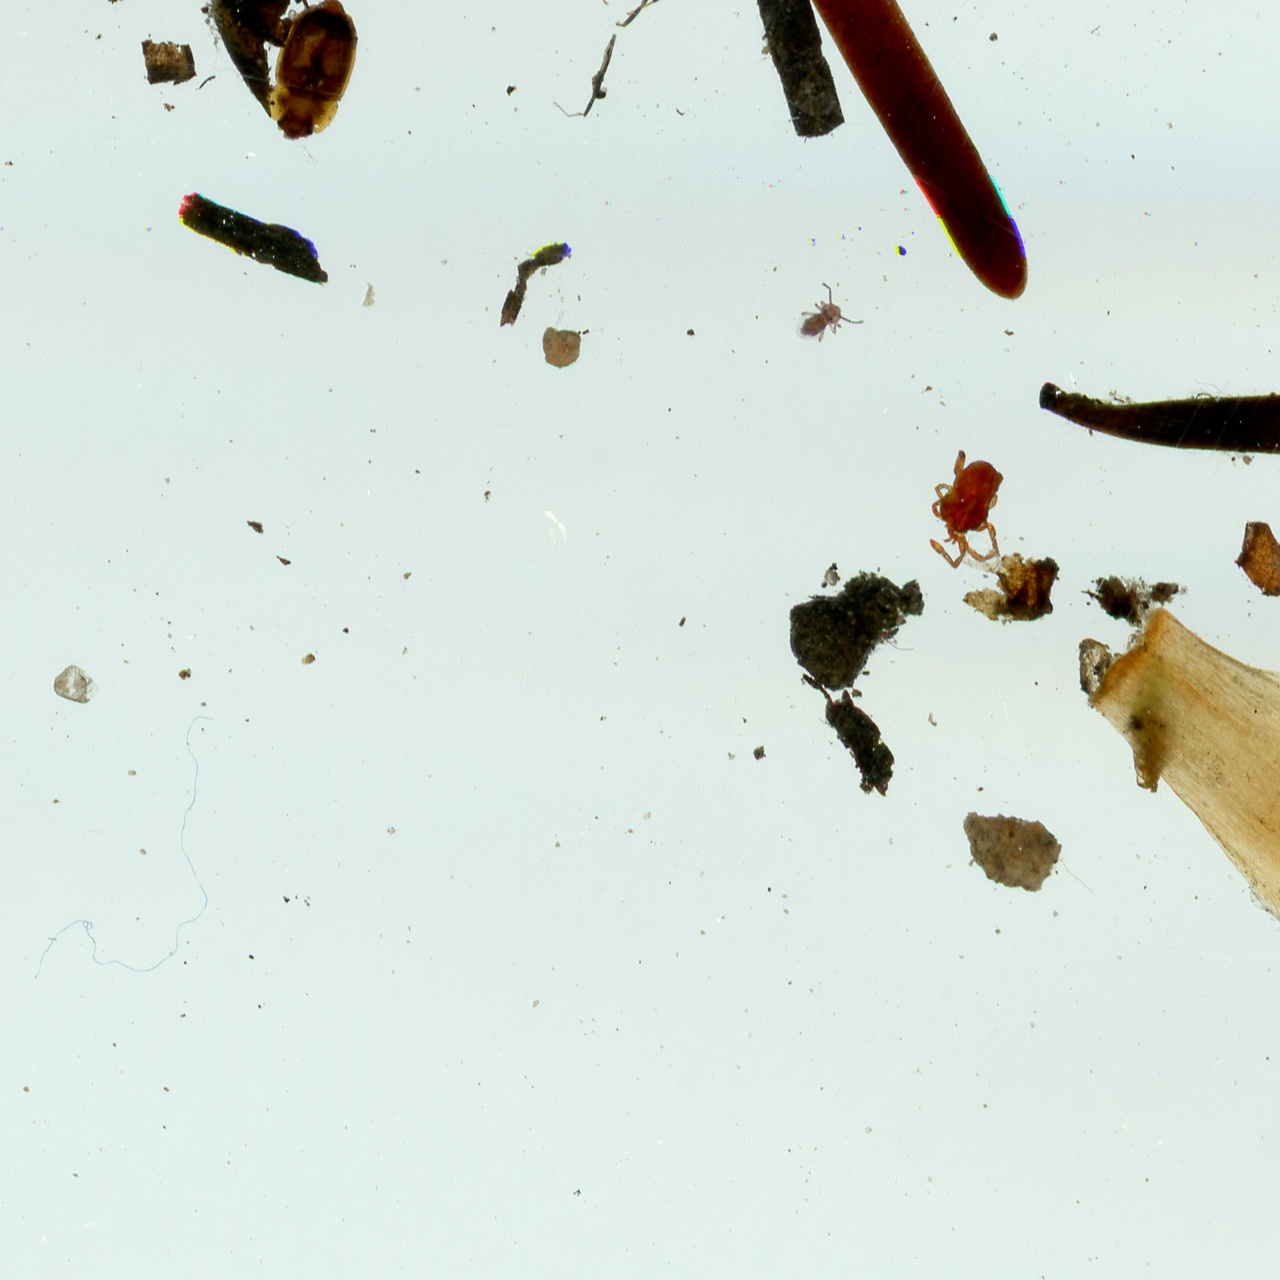arthropod: (262, 0, 366, 146), (577, 0, 759, 53), (928, 448, 1002, 564), (785, 276, 867, 359)
